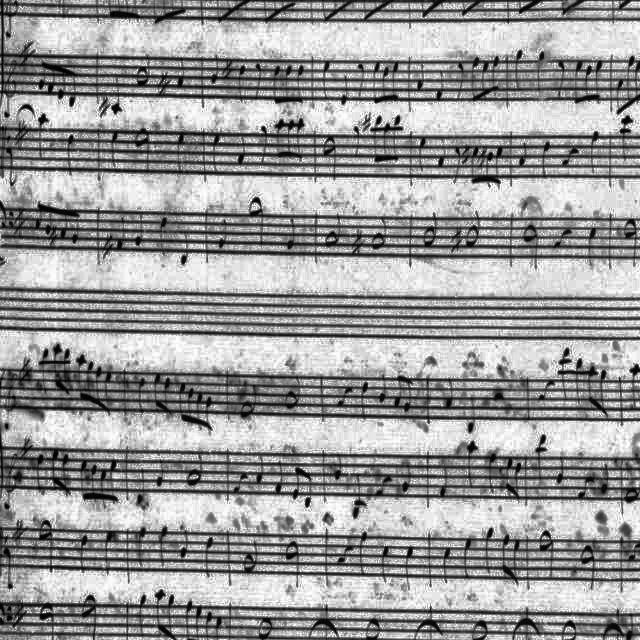Bass-clef: (14, 598, 30, 634), (0, 196, 8, 256)
Diez: (16, 358, 34, 387), (15, 204, 29, 240), (19, 42, 35, 72), (350, 229, 366, 257), (18, 436, 34, 464), (12, 520, 28, 546), (157, 70, 171, 98), (100, 232, 114, 260), (16, 120, 28, 152), (451, 226, 462, 254), (98, 94, 110, 118), (223, 56, 233, 84), (47, 225, 59, 246), (362, 111, 372, 133), (462, 144, 472, 166), (479, 148, 486, 170)
Eighth-note: (554, 227, 572, 253), (155, 588, 165, 634), (512, 540, 522, 584), (500, 533, 510, 575), (626, 56, 634, 106), (560, 146, 580, 166), (472, 54, 480, 102), (394, 114, 402, 162), (62, 346, 70, 394), (374, 116, 382, 162), (52, 342, 60, 388), (168, 593, 176, 639), (337, 544, 355, 564), (276, 118, 284, 162), (76, 354, 84, 398), (578, 476, 594, 498), (232, 473, 248, 495), (574, 59, 582, 102), (496, 144, 504, 186), (538, 381, 554, 402), (62, 453, 70, 495), (372, 61, 380, 102), (296, 64, 304, 104), (296, 118, 304, 158), (382, 122, 390, 162), (338, 386, 354, 406), (376, 476, 392, 496), (79, 460, 87, 500), (110, 460, 118, 500), (224, 1, 232, 40), (286, 119, 294, 158), (70, 70, 78, 108), (285, 63, 293, 101), (392, 62, 400, 100), (178, 382, 186, 420), (186, 386, 194, 424), (50, 449, 58, 487), (58, 64, 66, 100), (404, 376, 412, 412), (514, 462, 522, 498), (306, 472, 314, 508), (584, 66, 592, 100), (152, 373, 160, 407), (505, 457, 513, 491), (292, 466, 300, 500), (95, 362, 101, 406), (104, 371, 110, 414), (48, 62, 56, 94), (72, 212, 80, 244), (394, 376, 402, 408), (206, 608, 214, 640), (87, 360, 93, 402), (185, 599, 191, 640), (38, 61, 46, 91), (274, 64, 280, 104), (628, 542, 640, 562), (596, 59, 602, 97), (472, 147, 478, 185), (196, 603, 202, 640), (44, 203, 51, 234), (482, 60, 488, 96), (617, 78, 623, 114), (165, 377, 171, 413), (206, 394, 212, 430), (91, 464, 97, 500), (635, 61, 640, 102), (382, 66, 388, 100), (487, 152, 493, 186), (61, 210, 68, 238), (197, 392, 203, 424), (36, 200, 42, 230), (161, 1, 169, 23), (216, 0, 224, 22), (101, 469, 107, 498), (216, 614, 222, 640), (362, 1, 370, 20), (108, 0, 116, 18), (153, 0, 159, 24), (372, 0, 381, 16), (494, 56, 498, 92), (132, 0, 139, 20), (322, 0, 329, 20), (264, 1, 270, 23), (272, 1, 280, 16), (518, 1, 526, 16), (117, 1, 123, 20), (560, 0, 568, 14), (125, 0, 131, 18), (171, 0, 177, 18), (421, 0, 427, 18), (234, 0, 242, 12), (332, 0, 340, 12), (462, 1, 468, 16), (179, 0, 186, 12), (280, 0, 287, 12), (617, 0, 625, 10), (341, 0, 347, 10), (381, 0, 387, 8), (639, 61, 640, 102)
Full-note: (468, 616, 492, 640), (362, 616, 383, 640), (558, 616, 578, 640), (256, 616, 274, 640)
Half-note: (282, 539, 302, 589), (247, 193, 265, 247), (37, 519, 54, 573), (520, 224, 540, 268), (237, 380, 259, 420), (622, 218, 638, 270), (538, 527, 554, 579), (580, 542, 596, 590), (134, 125, 150, 172), (240, 540, 260, 576), (322, 136, 338, 180), (39, 599, 56, 640), (324, 211, 342, 247), (284, 376, 302, 412), (186, 454, 204, 488), (422, 210, 438, 248), (466, 210, 482, 248), (372, 216, 388, 252), (624, 468, 640, 504), (136, 54, 152, 88), (49, 0, 67, 18), (453, 146, 461, 184)
Quarter-note: (76, 592, 100, 640), (557, 346, 571, 400), (536, 434, 548, 482), (138, 520, 150, 568), (585, 228, 599, 268), (534, 48, 546, 94), (620, 115, 632, 161), (467, 439, 478, 489), (66, 132, 78, 176), (352, 474, 364, 518), (79, 534, 91, 578), (39, 112, 50, 156), (514, 50, 526, 90), (136, 374, 148, 414), (630, 360, 640, 408), (361, 530, 371, 578), (111, 74, 122, 116), (406, 546, 416, 590), (205, 534, 215, 578), (286, 216, 298, 252), (466, 399, 478, 435), (134, 468, 146, 504), (600, 464, 612, 500), (483, 526, 492, 574), (590, 130, 600, 173), (176, 132, 186, 174), (133, 213, 145, 247), (178, 233, 190, 267), (212, 134, 222, 174), (443, 544, 453, 584), (159, 526, 169, 566), (463, 534, 472, 578), (574, 356, 582, 404), (254, 452, 266, 484), (105, 530, 113, 578), (110, 131, 120, 169), (361, 382, 371, 420), (380, 544, 390, 582), (138, 592, 146, 638), (515, 142, 529, 168), (116, 216, 126, 252), (36, 453, 46, 489), (273, 458, 283, 494), (600, 368, 608, 412), (40, 348, 48, 392), (236, 136, 248, 164), (588, 366, 596, 408), (488, 451, 496, 493), (322, 60, 330, 100), (436, 136, 446, 168), (542, 140, 550, 180), (160, 216, 168, 256), (438, 466, 448, 498), (181, 527, 191, 559), (443, 378, 453, 409), (155, 458, 165, 489), (418, 137, 427, 171), (238, 65, 246, 103), (219, 219, 229, 249), (402, 463, 412, 493), (335, 454, 345, 482), (625, 612, 635, 640), (177, 57, 186, 87), (340, 74, 348, 106), (378, 372, 386, 404), (436, 70, 444, 100), (210, 54, 218, 82), (417, 63, 425, 91), (556, 456, 564, 484)
Quarter-rest: (2, 546, 14, 590), (258, 124, 268, 164), (7, 146, 16, 187), (254, 62, 262, 100), (456, 62, 464, 100), (556, 59, 564, 97), (356, 62, 364, 98), (353, 122, 361, 156)
Treble-clef: (4, 59, 16, 117), (4, 452, 16, 510), (4, 374, 16, 431), (5, 0, 18, 36)
